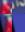potion: (0, 14, 12, 32), (0, 0, 12, 14)
